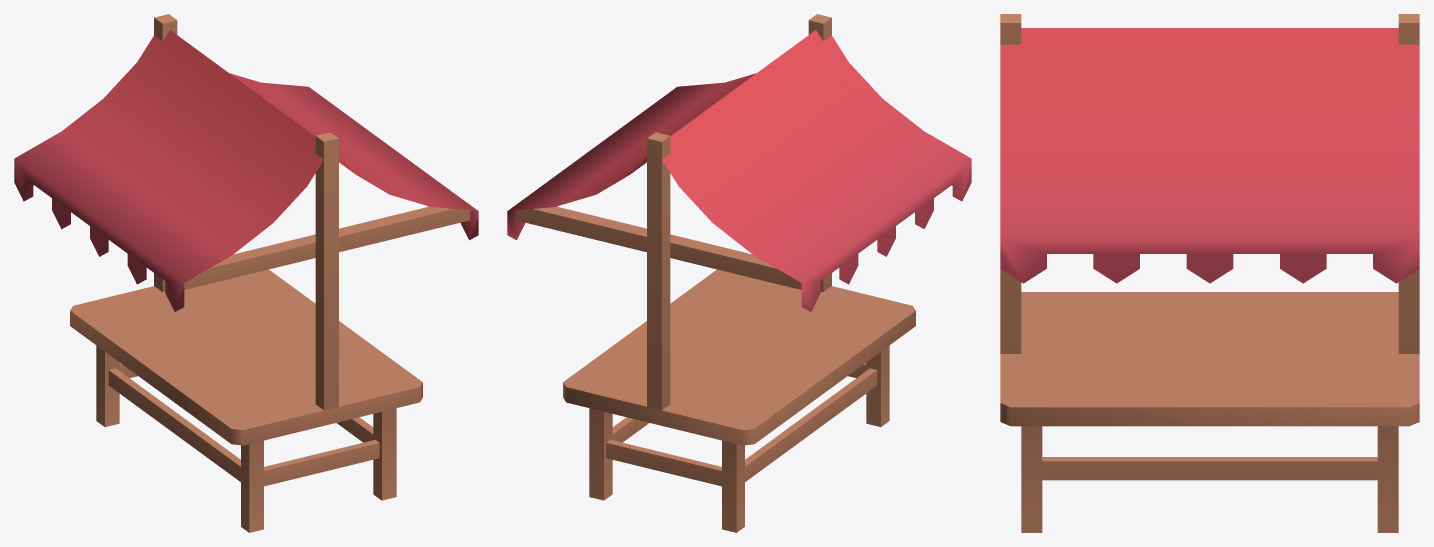
Rendered from k-fantasy-town-stall-red.glb.
3 views of the same model, side by side, from view 1: azimuth 30°, elevation 25°; view 2: azimuth 150°, elevation 25°; view 3: azimuth 270°, elevation 25° (orthographic). The views are drawn at different scales.
Visible parts, largest first — view 1: stall-red; view 2: stall-red; view 3: stall-red.
Boxes of the visible parts, bbox=[...] form: stall-red: bbox=[14, 14, 478, 532]; stall-red: bbox=[507, 14, 971, 532]; stall-red: bbox=[1000, 14, 1419, 532].
Size of the model in its own units: 1 by 1.24 by 1.
1 material, 1 textured.
